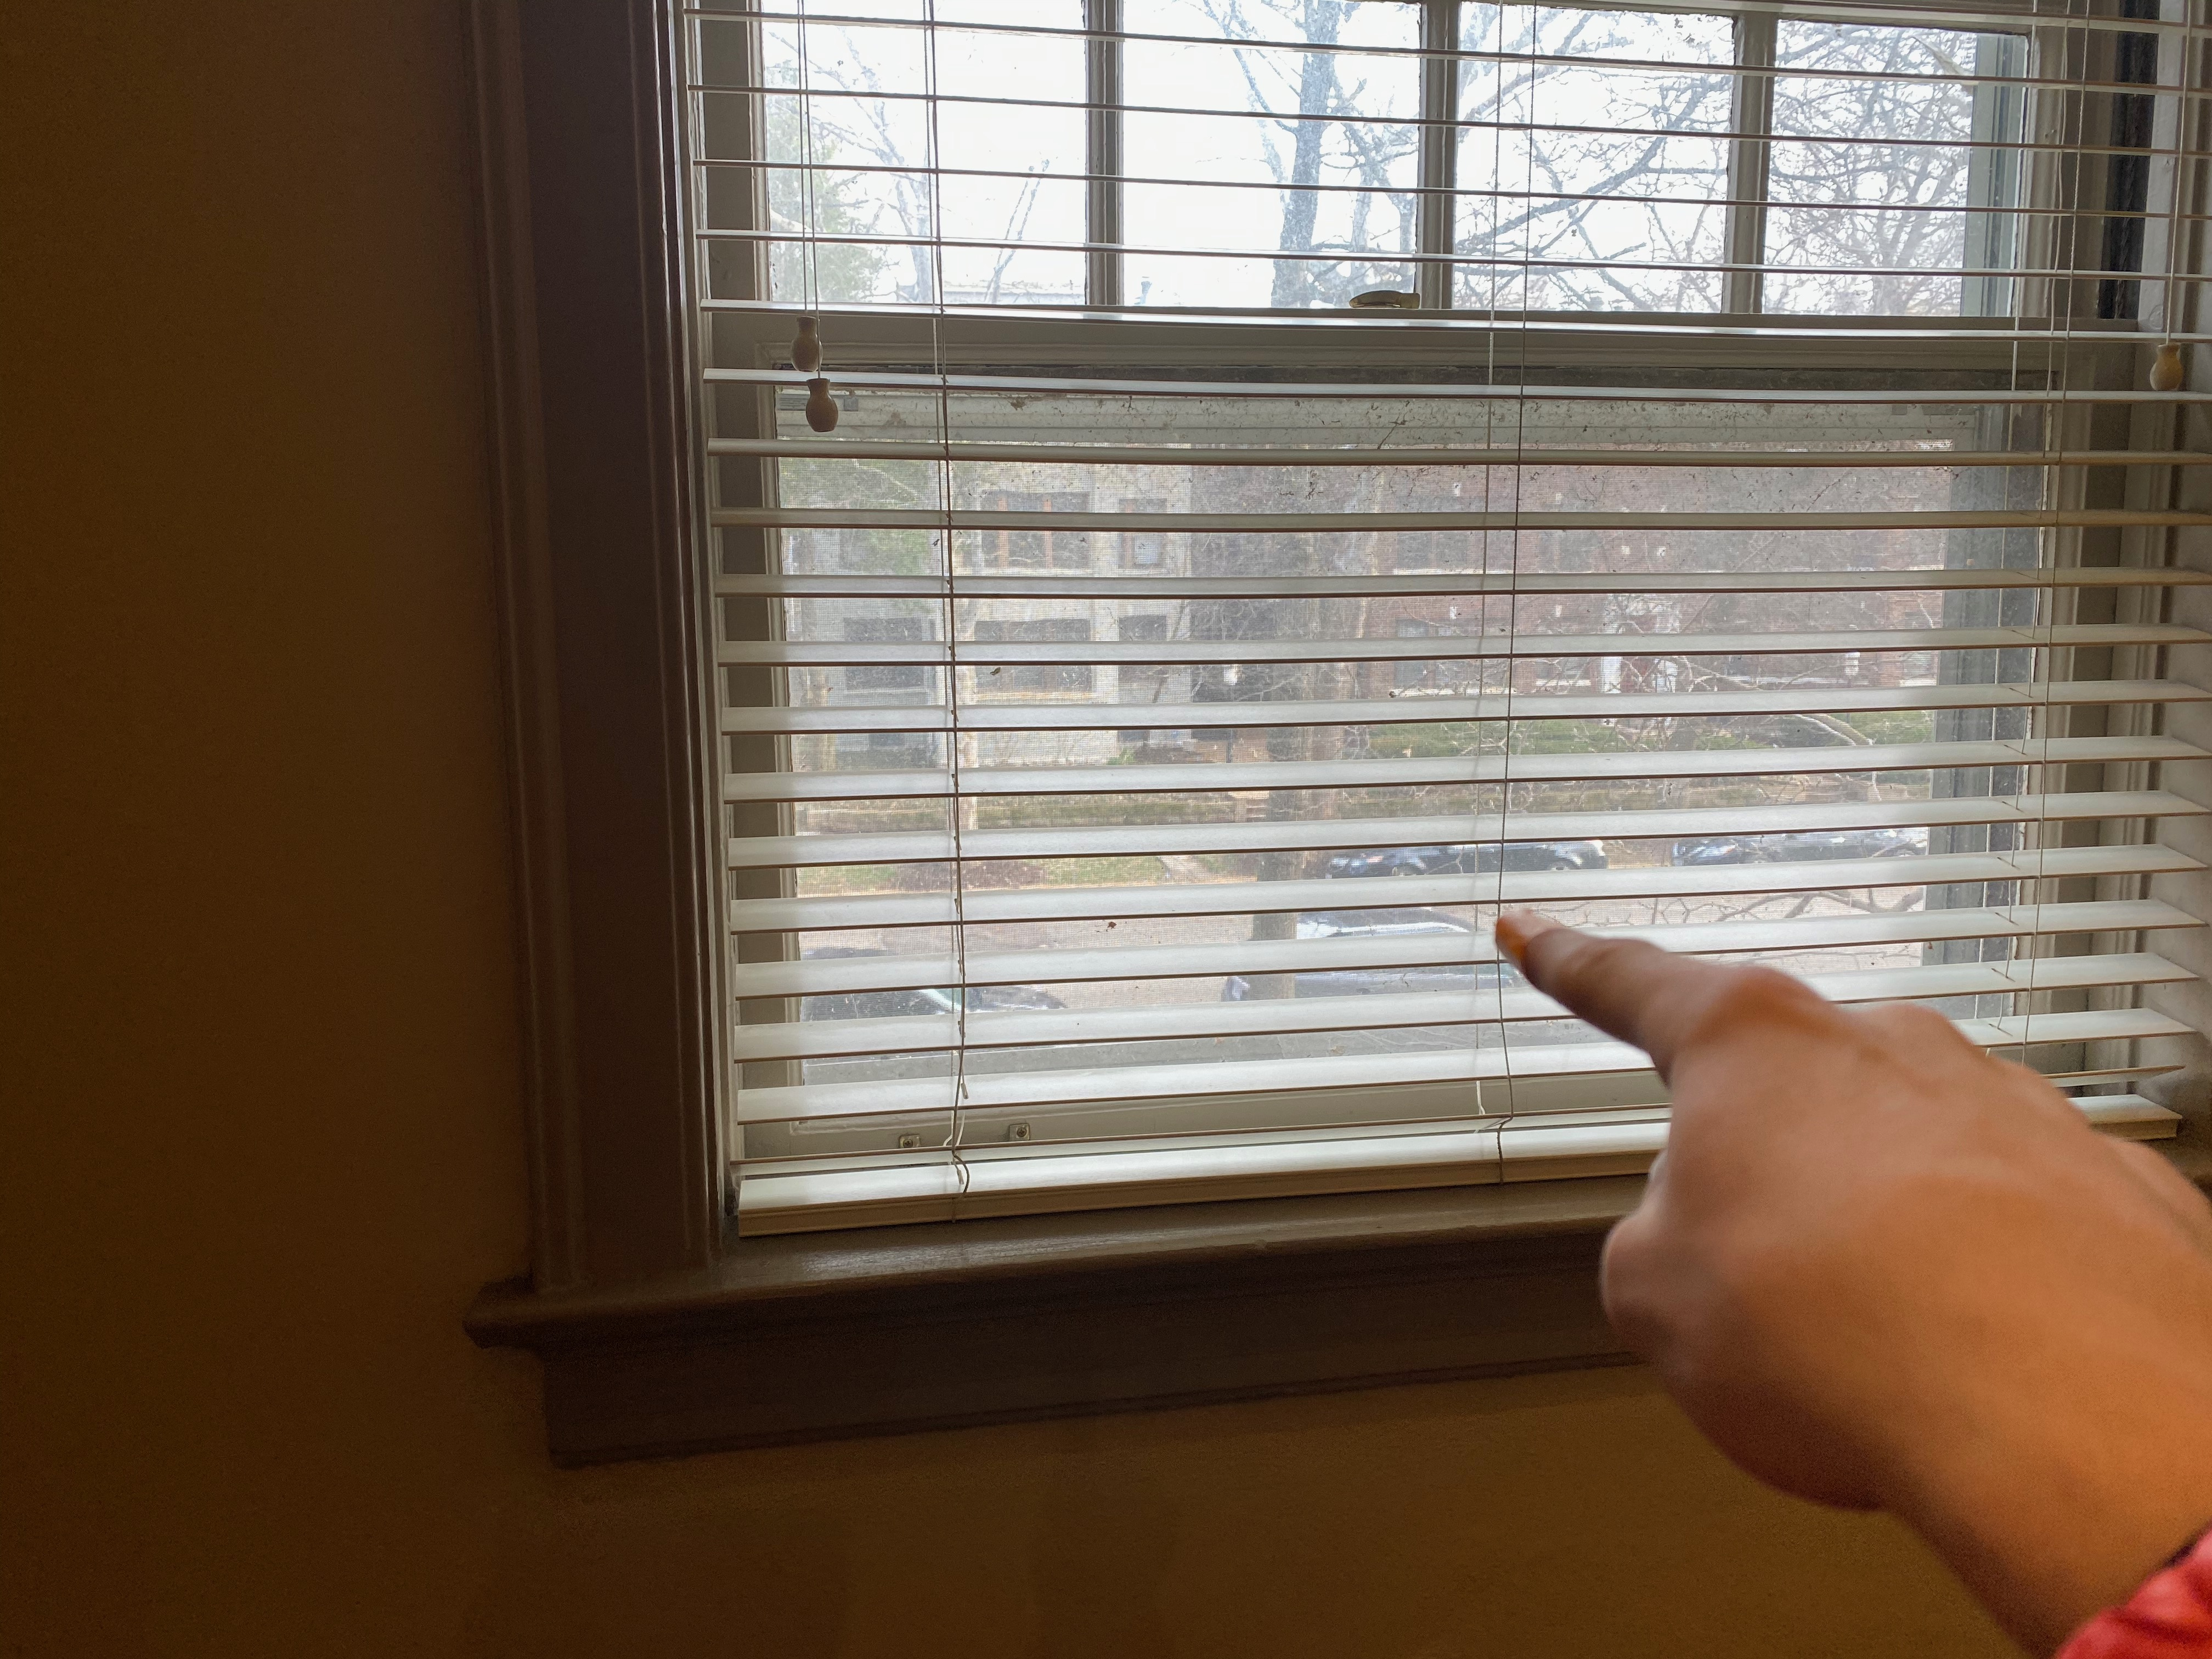fingertip: (1453, 890, 1597, 986)
